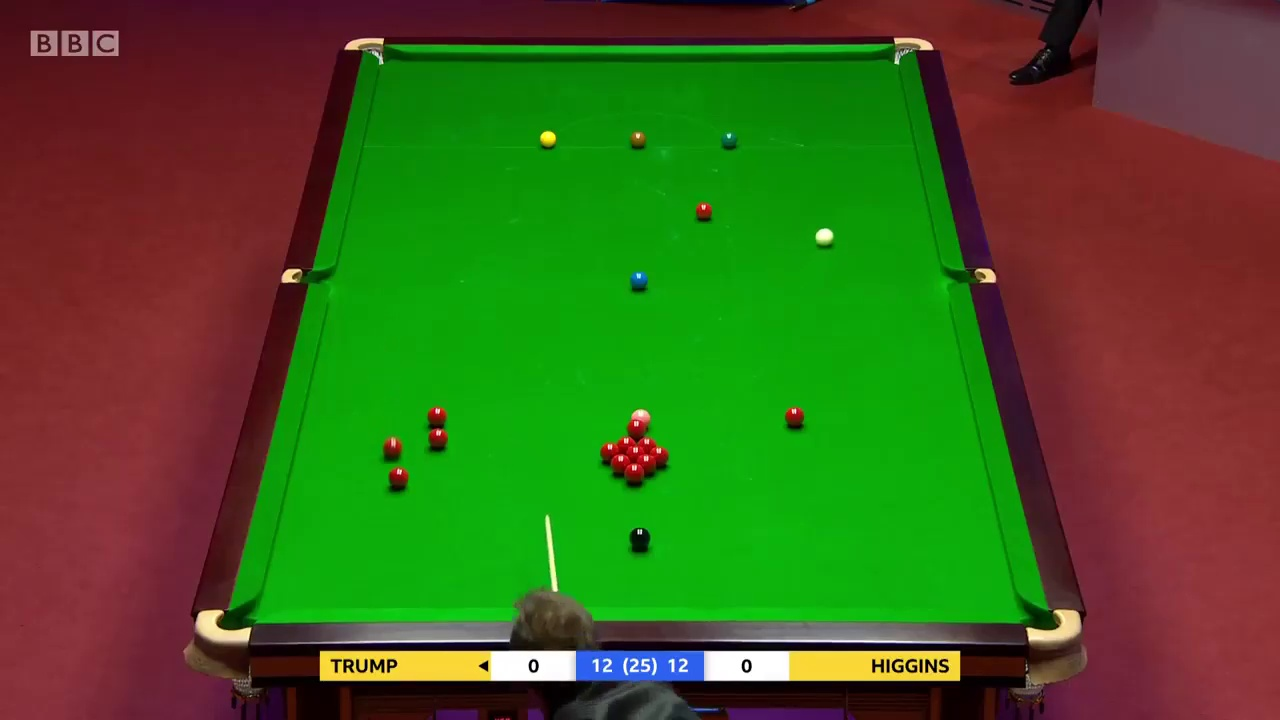ball: (629, 523, 652, 552), (427, 425, 450, 447), (784, 404, 804, 427), (626, 272, 648, 292), (388, 465, 408, 487), (811, 228, 834, 247), (623, 462, 643, 482), (692, 200, 711, 220), (539, 129, 557, 147), (721, 133, 737, 150), (631, 132, 646, 149)
